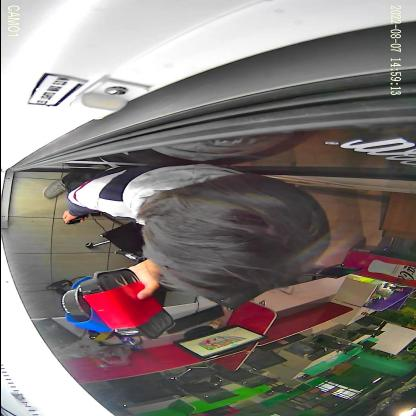blue: (60, 276, 112, 333)
red: (79, 268, 176, 340)
